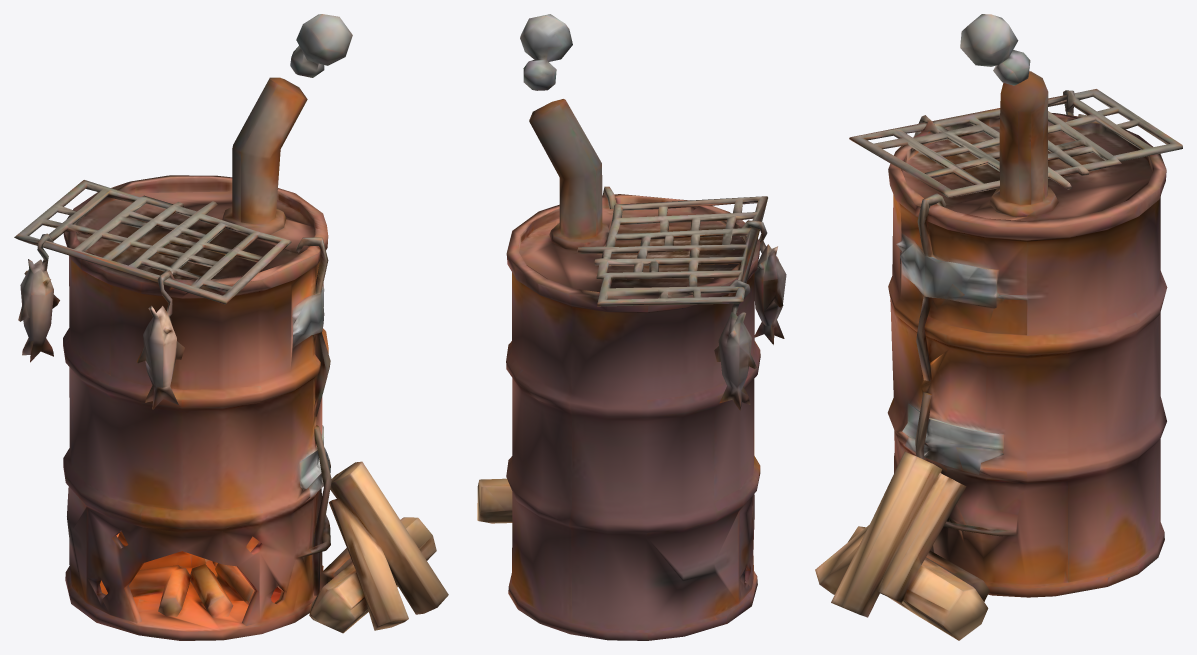
Rendered from xunyu-1.glb.
3 renders of one model, left to right at view 1: azimuth 30°, elevation 25°; view 2: azimuth 150°, elevation 25°; view 3: azimuth 270°, elevation 25°, orthographic. The views are drawn at different scales.
Parts seen in each view (by area): view 1: node_0; view 2: node_0; view 3: node_0.
Part boxes in pixels (x1,y1,x2,y2): node_0: (14,14,448,640); node_0: (477,14,786,640); node_0: (815,14,1182,640).
Bounding box in the file's own units: 0.6693 × 1.02 × 0.5803.
1 material, 1 textured.
